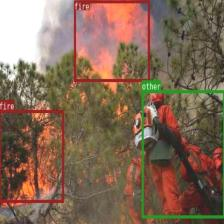fire: (74, 0, 149, 81), (0, 110, 64, 202)
